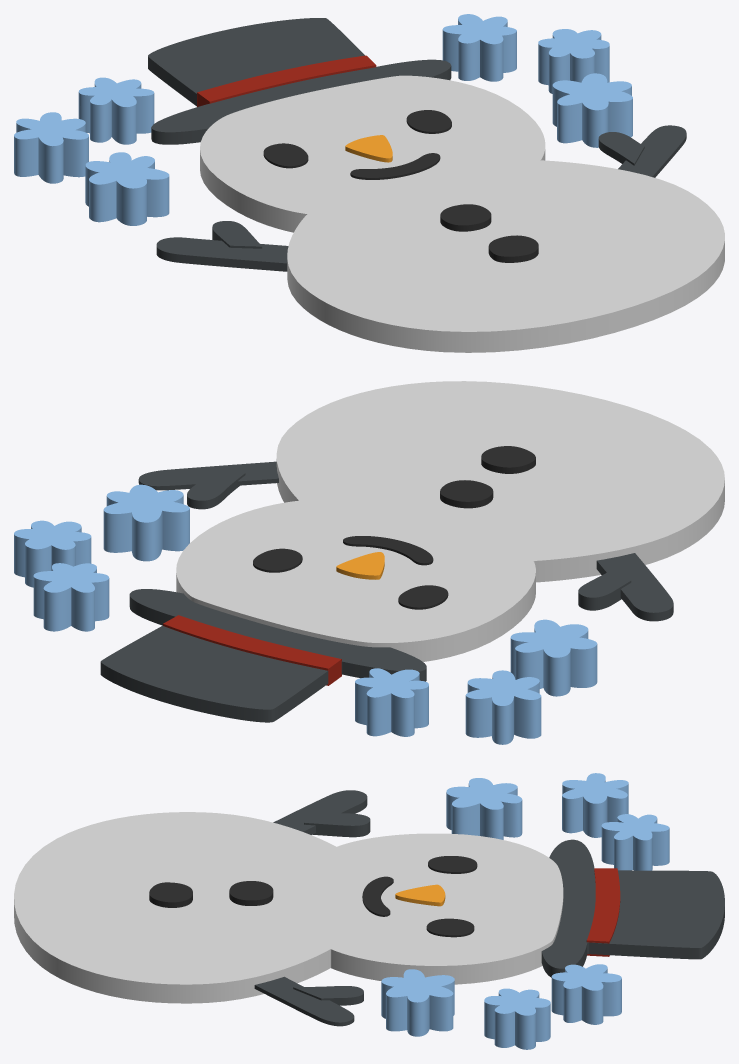
File: emoji_u2603.glb
3 views of the same model, one above another, from view 1: azimuth 30°, elevation 25°; view 2: azimuth 150°, elevation 25°; view 3: azimuth 270°, elevation 25° (orthographic). The views are drawn at different scales.
Parts seen in each view (by area): view 1: emoji_u2603; view 2: emoji_u2603; view 3: emoji_u2603.
Boxes of the visible parts, x1=… form: emoji_u2603: x1=14, y1=14, x2=724, y2=352; emoji_u2603: x1=14, y1=381, x2=724, y2=744; emoji_u2603: x1=14, y1=773, x2=724, y2=1049.
Bounding box in the file's own units: 0.0274 × 0.0018 × 0.0339.
